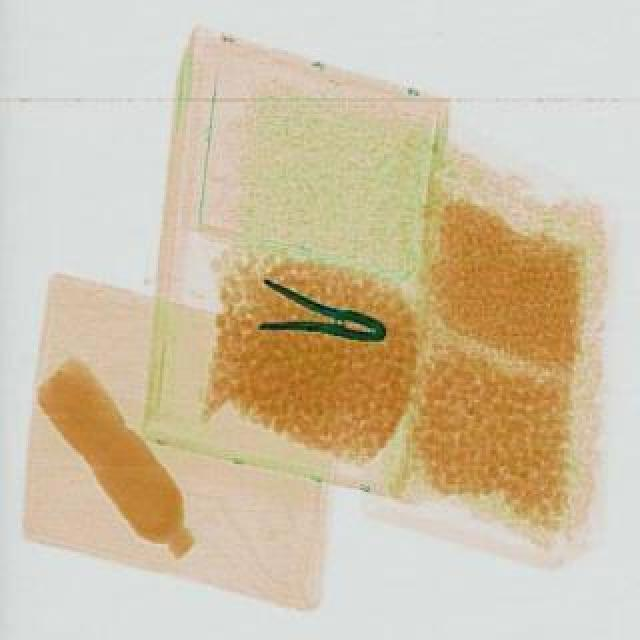wrench: (248, 274, 392, 358)
